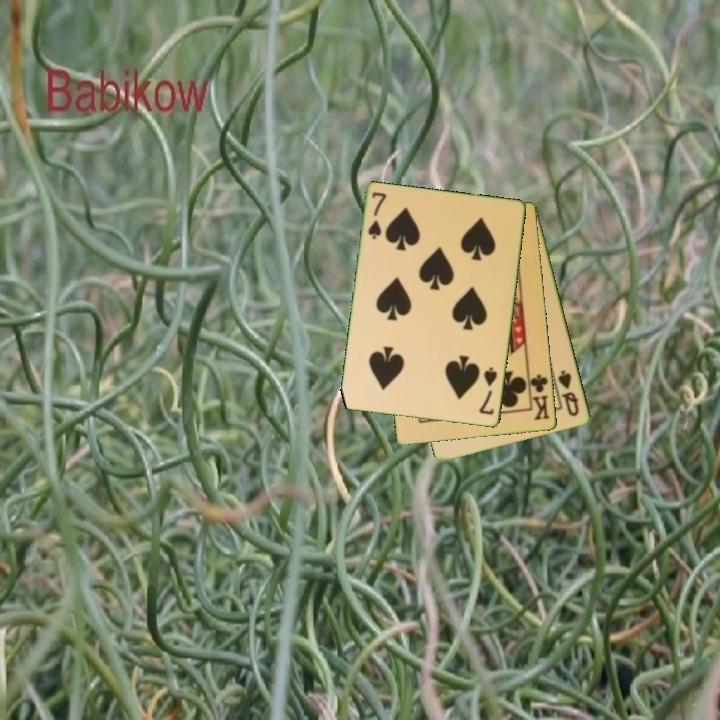7s: (476, 364, 500, 418), (365, 189, 389, 242)
Kc: (525, 369, 552, 423)
Qs: (555, 367, 582, 420)
